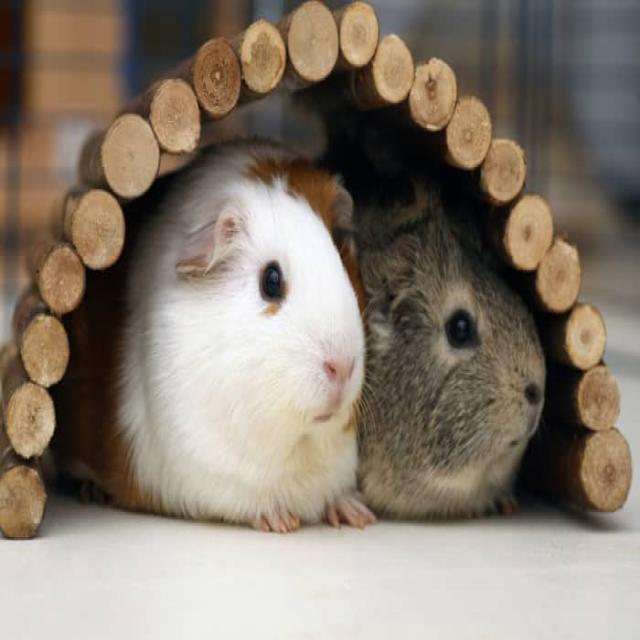guinea pig: (59, 139, 373, 526), (360, 207, 550, 519)
